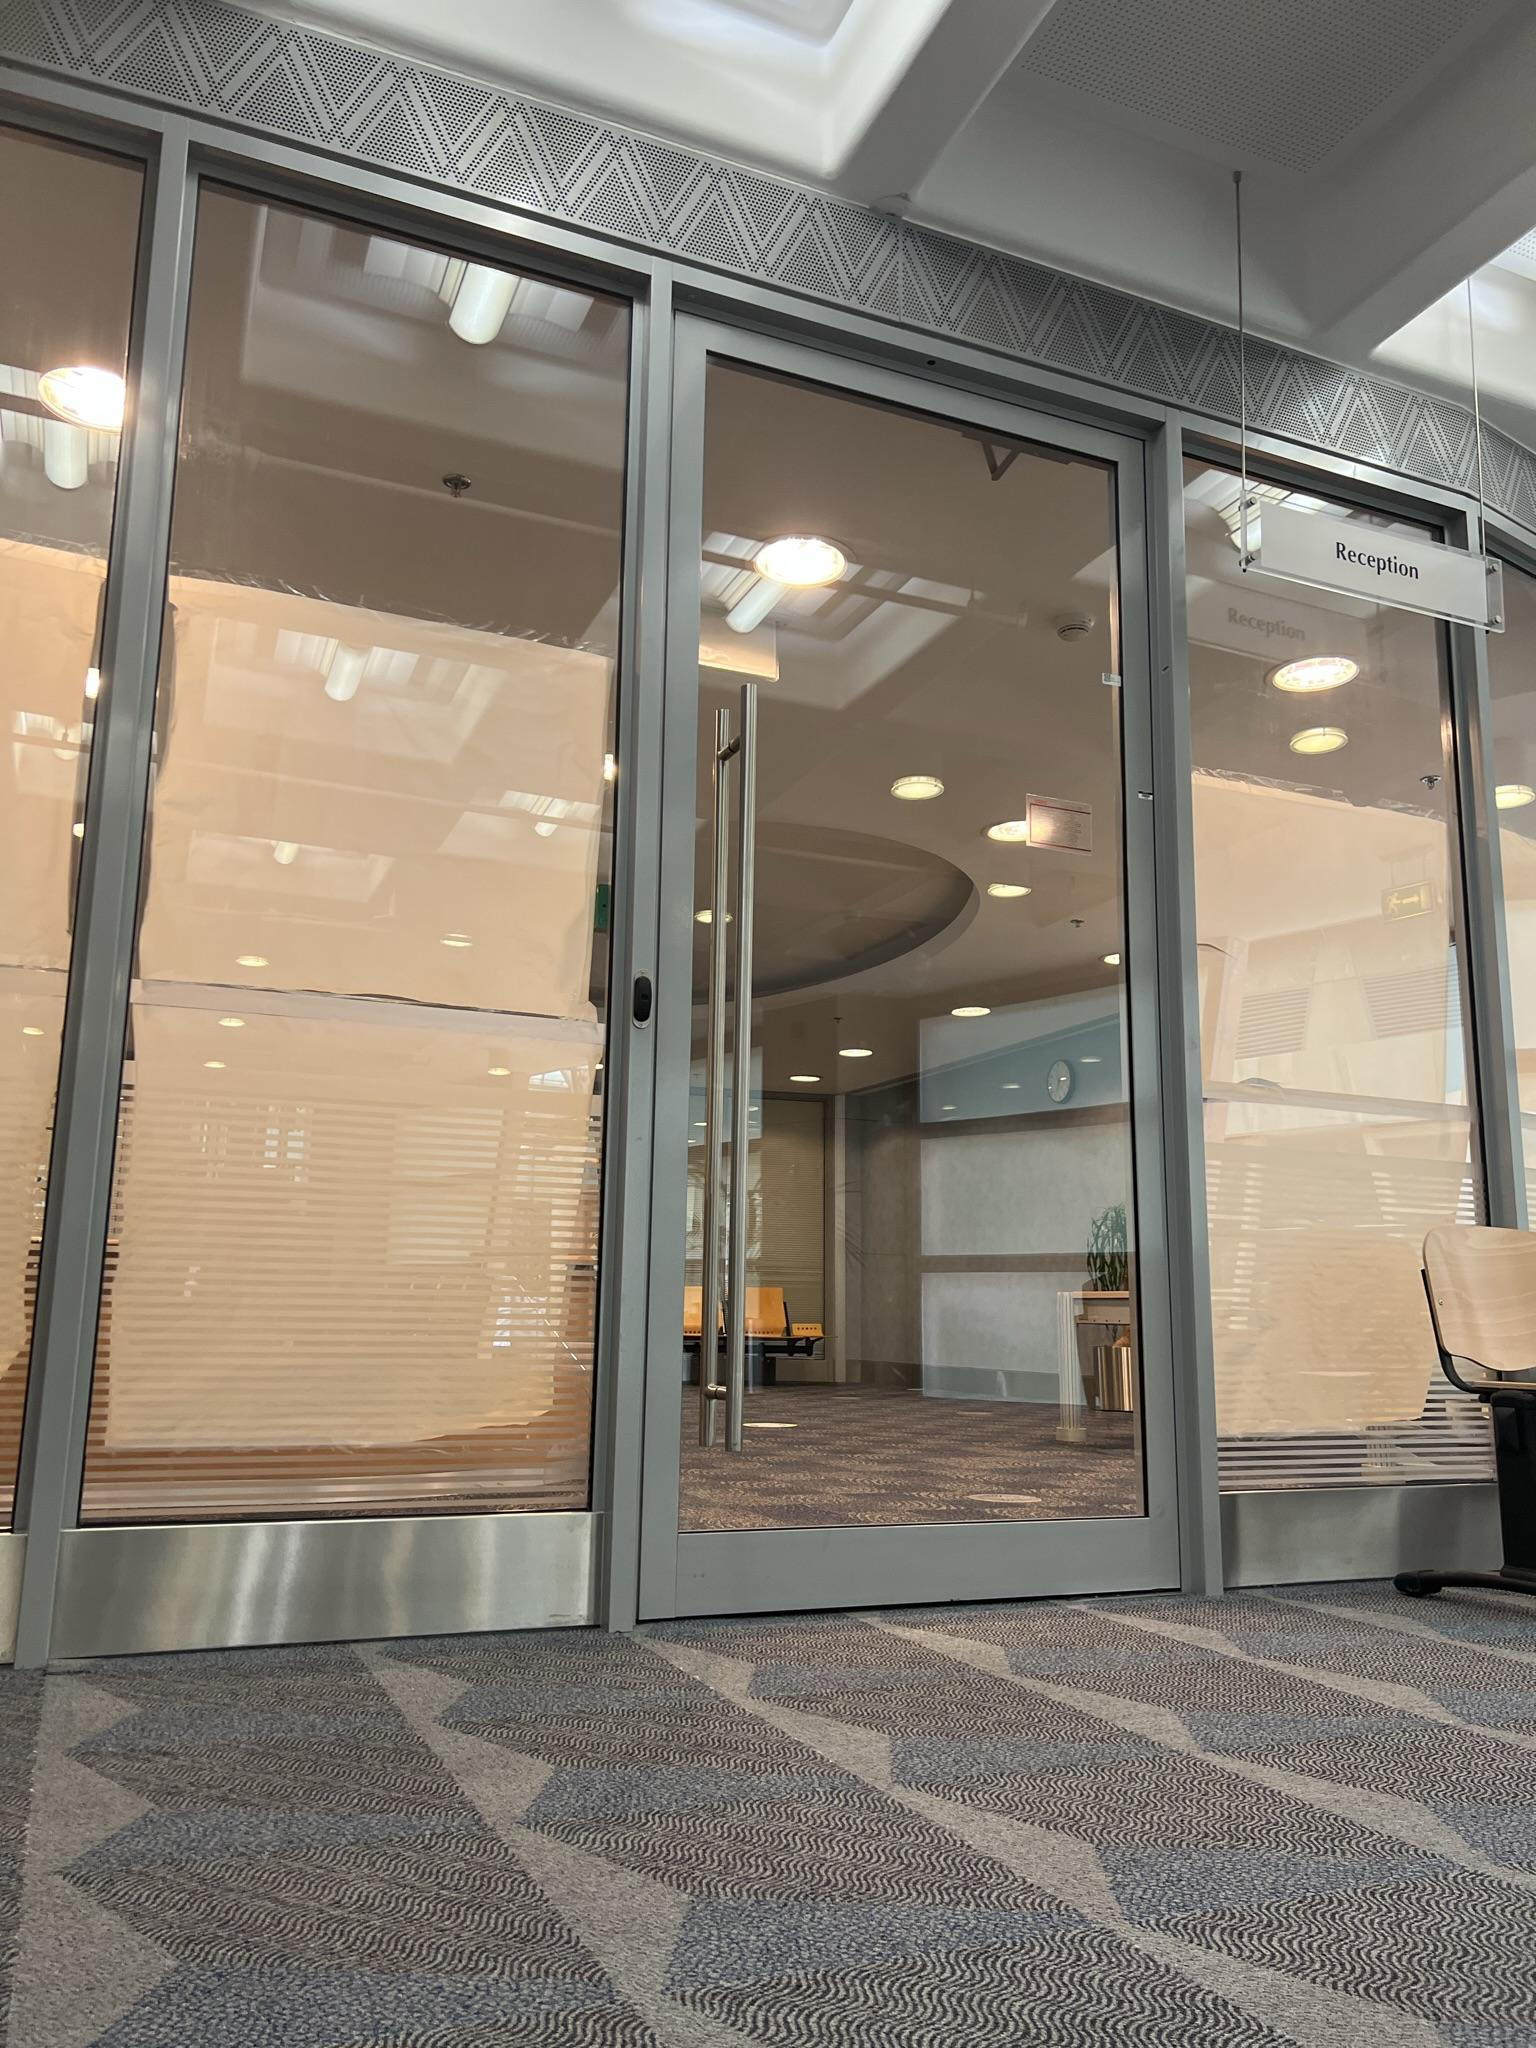door: (682, 281, 1173, 1601)
handle: (716, 676, 765, 1471)
